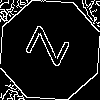Z: (25, 25, 80, 73)
